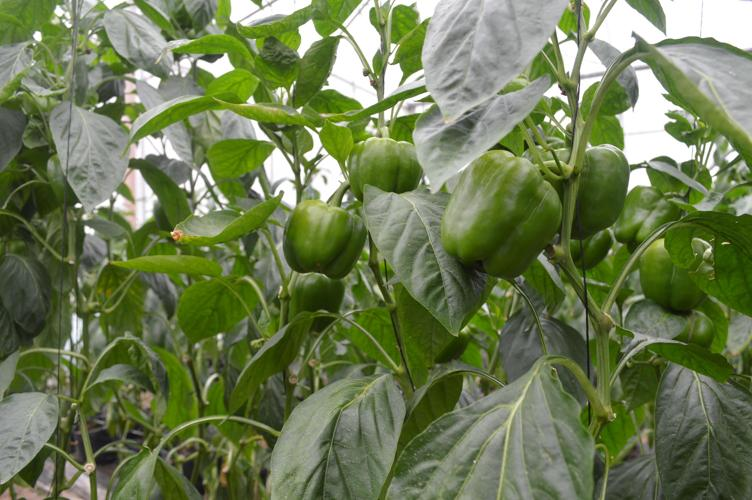BellPepper: (440, 153, 562, 285), (561, 144, 629, 244), (284, 201, 368, 281), (343, 137, 422, 203), (634, 240, 702, 312), (620, 186, 676, 251), (282, 276, 344, 326), (559, 229, 616, 270), (670, 313, 719, 347)
